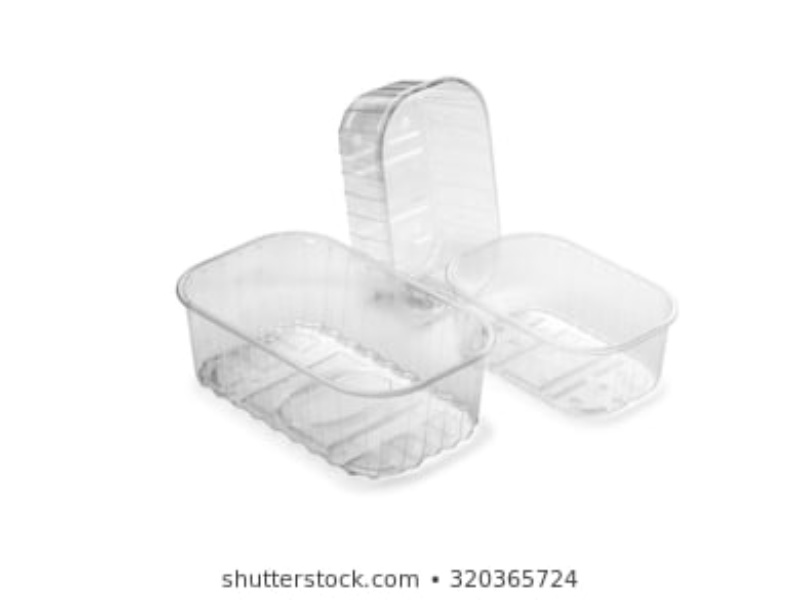plastic-container: (171, 228, 489, 479), (445, 227, 681, 417), (331, 73, 503, 300)
